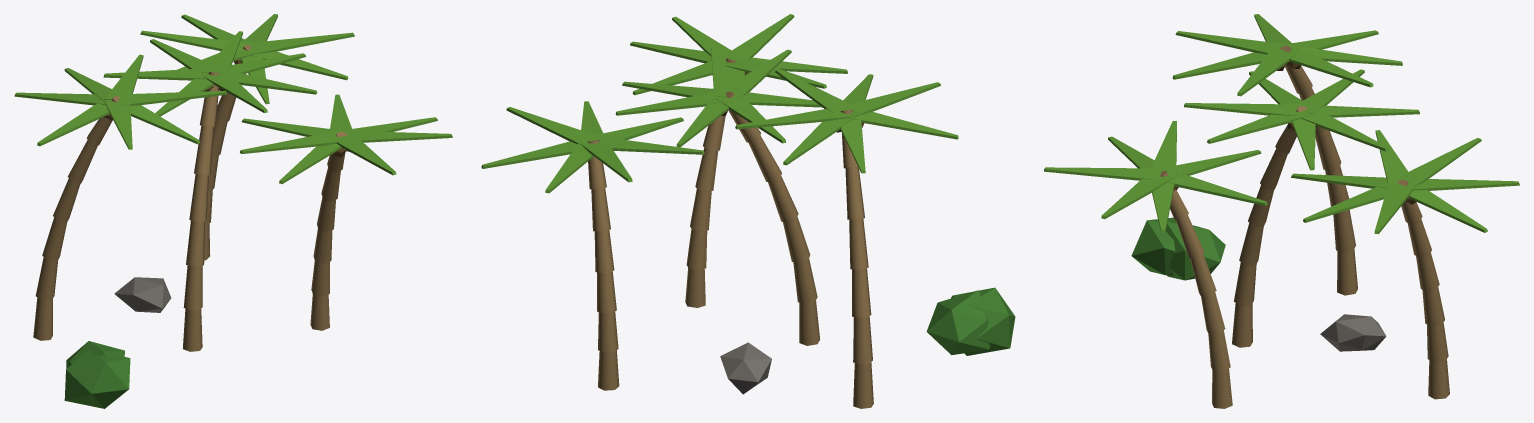
File: sawyer_coastal_palms_a.glb
3 renders of one model, left to right at view 1: azimuth 30°, elevation 25°; view 2: azimuth 150°, elevation 25°; view 3: azimuth 270°, elevation 25°, orthographic. The views are drawn at different scales.
Visible parts, largest first — view 1: bush_3_leaves1, rock_5_rock, palm_0_leaf5, palm_2_leaf3, palm_4_leaf1, palm_4_leaf4, palm_0_leaf2, palm_1_leaf6, palm_2_leaf6, palm_1_leaf1, palm_1_leaf2, palm_4_leaf3 (+36 smaller); view 2: bush_3_leaves0, bush_3_leaves1, rock_5_rock, palm_0_leaf6, palm_0_leaf5, palm_2_leaf3, palm_1_leaf1, palm_1_leaf4, palm_0_leaf2, palm_4_leaf3, palm_0_leaf3, palm_2_leaf0 (+37 smaller); view 3: rock_5_rock, bush_3_leaves0, bush_3_leaves1, palm_1_leaf1, palm_4_leaf3, palm_2_leaf6, palm_0_leaf3, palm_1_leaf4, palm_0_leaf6, palm_4_leaf6, palm_0_leaf5, palm_2_leaf4 (+40 smaller).
Boxes of the visible parts, x1,y1,x2,y2 form: bush_3_leaves1: (64, 348, 130, 408); rock_5_rock: (114, 277, 171, 312); palm_0_leaf5: (115, 90, 227, 105); palm_2_leaf3: (250, 32, 354, 53); palm_4_leaf1: (240, 131, 340, 153); palm_4_leaf4: (341, 130, 452, 142); palm_0_leaf2: (37, 96, 112, 146); palm_1_leaf6: (103, 68, 215, 80); palm_2_leaf6: (140, 30, 250, 51); palm_1_leaf1: (203, 71, 267, 112); palm_1_leaf2: (215, 68, 317, 94); palm_4_leaf3: (336, 134, 396, 175); bush_3_leaves0: (926, 290, 990, 355); bush_3_leaves1: (951, 287, 1015, 355); rock_5_rock: (720, 342, 771, 394); palm_0_leaf6: (735, 108, 851, 129); palm_0_leaf5: (775, 69, 857, 114); palm_2_leaf3: (506, 107, 598, 144); palm_1_leaf1: (717, 49, 791, 98); palm_1_leaf4: (615, 92, 731, 115); palm_0_leaf2: (843, 111, 958, 139); palm_4_leaf3: (723, 14, 794, 60); palm_0_leaf3: (850, 82, 940, 116); palm_2_leaf0: (595, 136, 704, 154); rock_5_rock: (1320, 314, 1386, 351); bush_3_leaves0: (1166, 222, 1225, 280); bush_3_leaves1: (1131, 217, 1176, 275); palm_1_leaf1: (1184, 103, 1303, 116); palm_4_leaf3: (1044, 167, 1160, 180); palm_2_leaf6: (1399, 138, 1481, 187); palm_0_leaf3: (1175, 31, 1290, 54); palm_1_leaf4: (1301, 106, 1388, 151); palm_0_leaf6: (1289, 46, 1373, 87); palm_4_leaf6: (1167, 172, 1267, 205); palm_0_leaf5: (1237, 47, 1297, 96); palm_2_leaf4: (1408, 190, 1487, 232).
Size of the model in its own units: 4.74 by 3.01 by 4.76.
